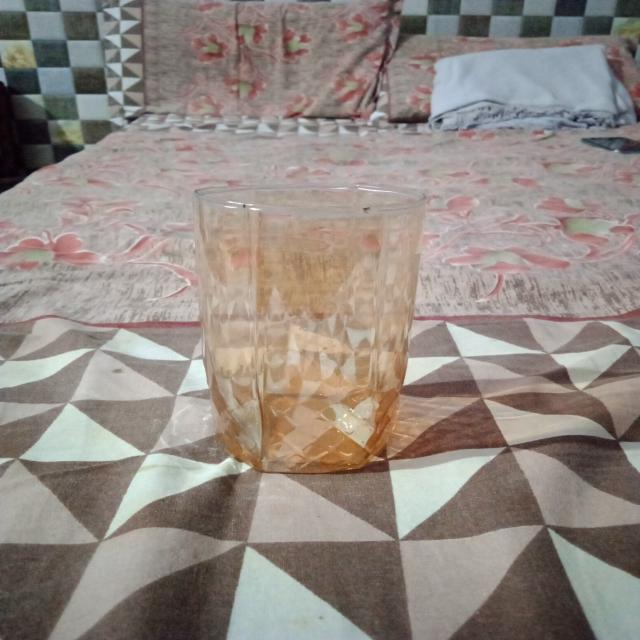Glass: (189, 178, 432, 477)
